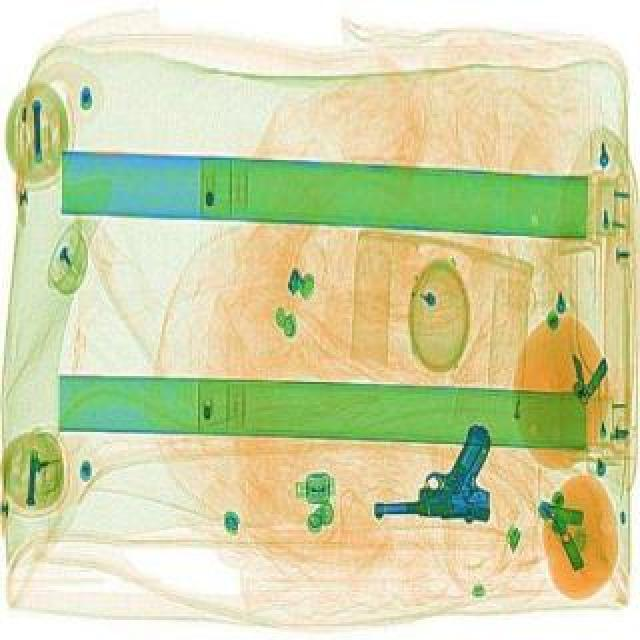gun: (370, 420, 494, 516)
